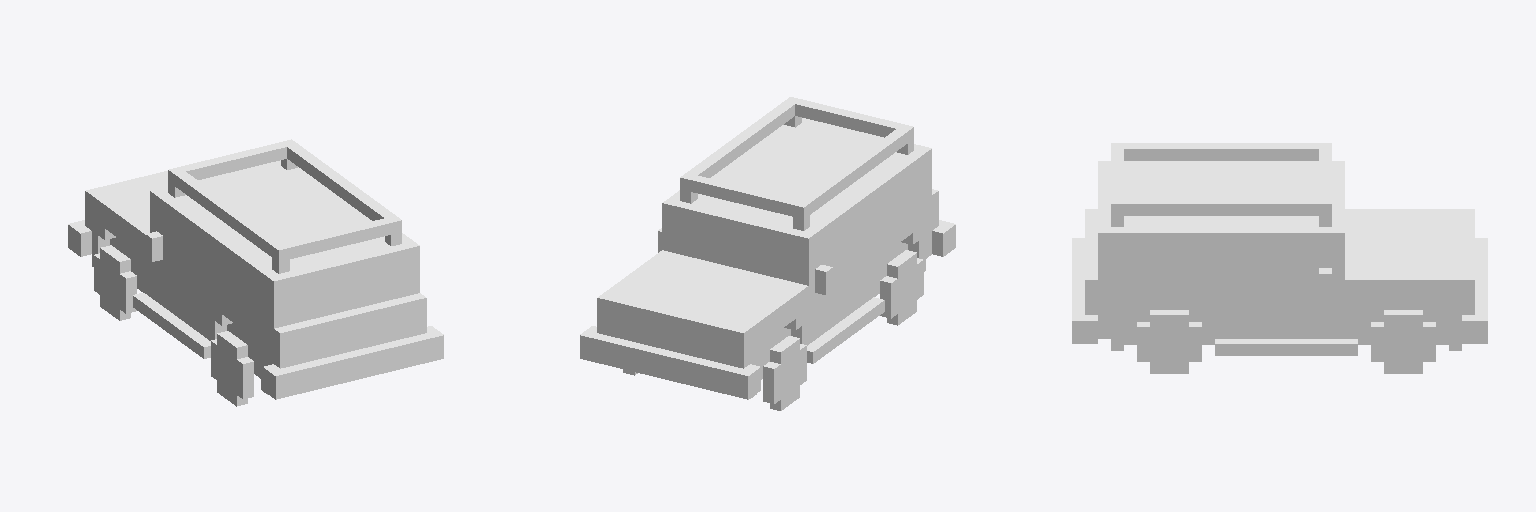
The model's file is cars-2.obj.
3 views of the same model, side by side, from view 1: azimuth 30°, elevation 25°; view 2: azimuth 150°, elevation 25°; view 3: azimuth 270°, elevation 25° (orthographic).
Parts seen in each view (by area): view 1: object 1; view 2: object 1; view 3: object 1.
Boxes of the visible parts, box(x1,y1,x2,y2) form: object 1: box(68, 139, 443, 406); object 1: box(580, 97, 955, 410); object 1: box(1072, 143, 1487, 373).
Size of the model in its own units: 1.5 by 1.4 by 3.2.